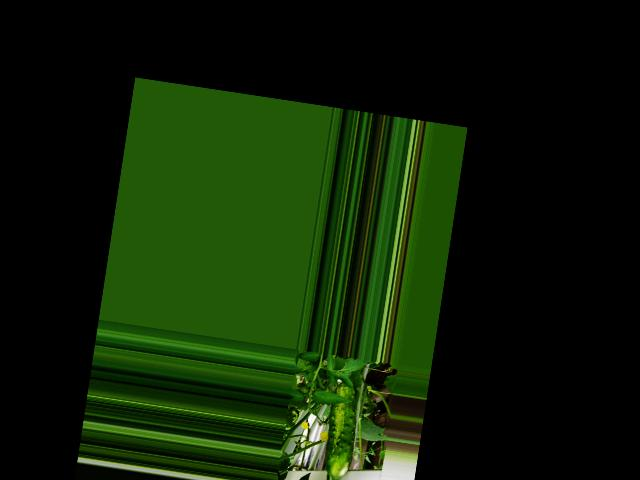cucumber: (321, 382, 363, 480)
